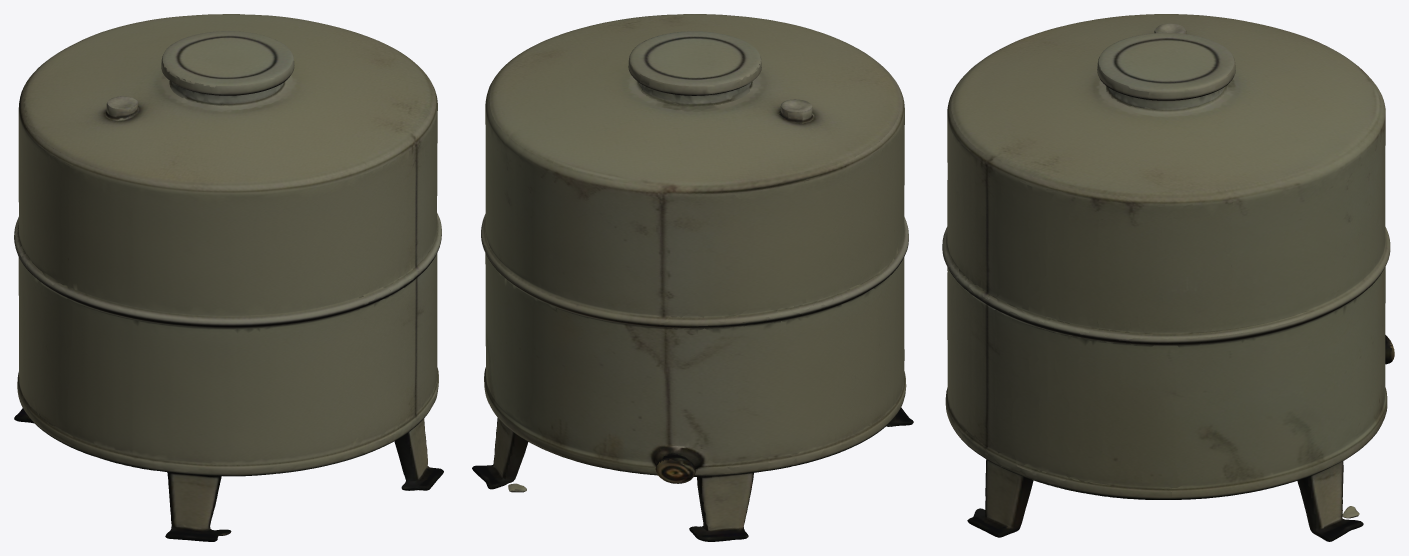
File: roof-tank.glb
3 views of the same model, side by side, from view 1: azimuth 30°, elevation 25°; view 2: azimuth 150°, elevation 25°; view 3: azimuth 270°, elevation 25° (orthographic). The views are drawn at different scales.
Parts seen in each view (by area): view 1: tmpl1dxe_rz.ply; view 2: tmpl1dxe_rz.ply; view 3: tmpl1dxe_rz.ply.
Boxes of the visible parts, x1,y1,x2,y2 form: tmpl1dxe_rz.ply: (14,14,443,541); tmpl1dxe_rz.ply: (472,14,913,541); tmpl1dxe_rz.ply: (942,14,1394,541).
Size of the model in its own units: 1 by 1 by 1.
1 material, 1 textured.
